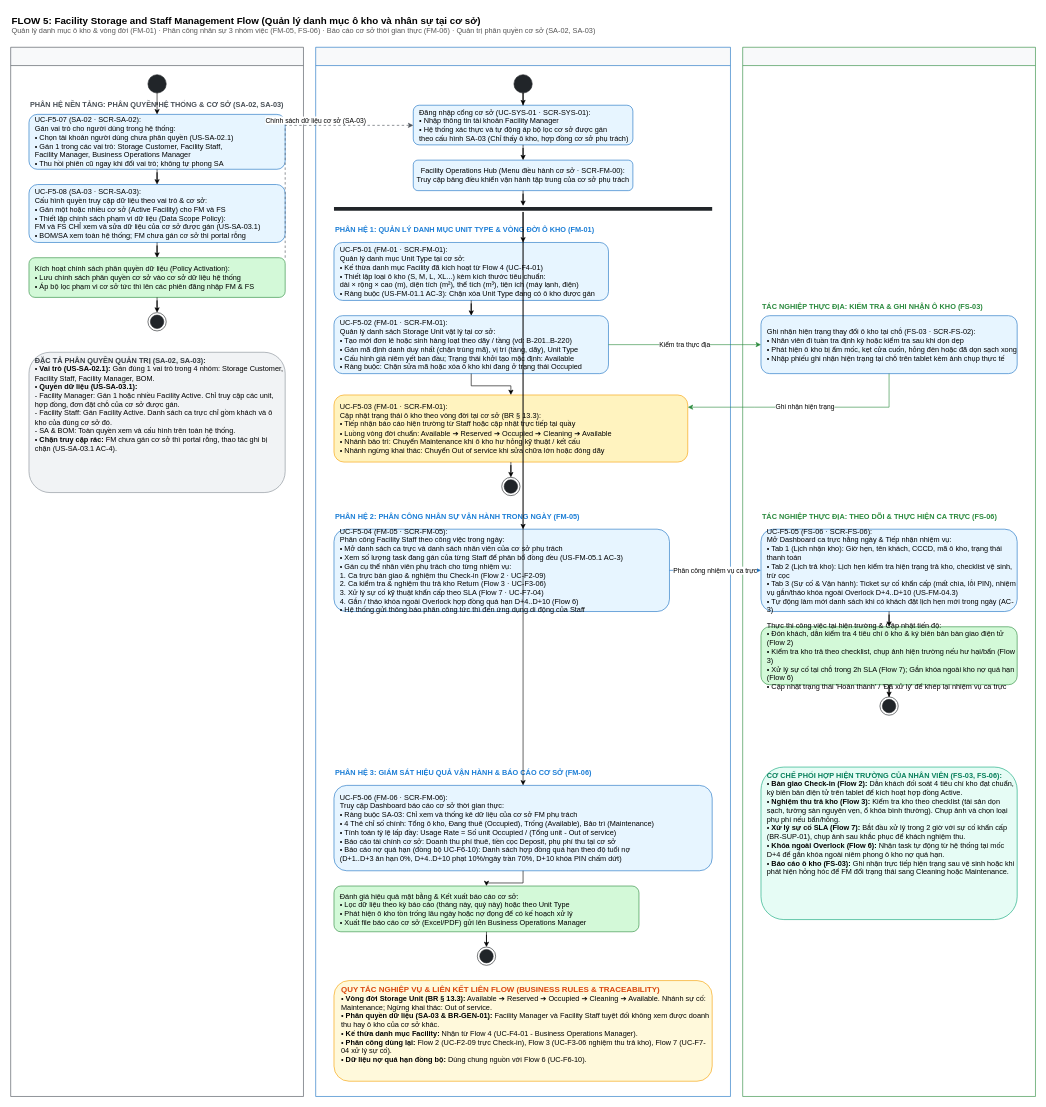
The diagram is 1046 pixels wide and 1107 high, and some of its shapes have lost their labels. Each missing label, with the box of its shape:
Facility Manager (Quản lý cơ sở — Actor chính): (315, 47, 730, 1096)
Facility Staff (Nhân viên cơ sở — Hiện trường): (742, 47, 1035, 1096)
System Administrator (Quản trị hệ thống): (10, 47, 303, 1096)
